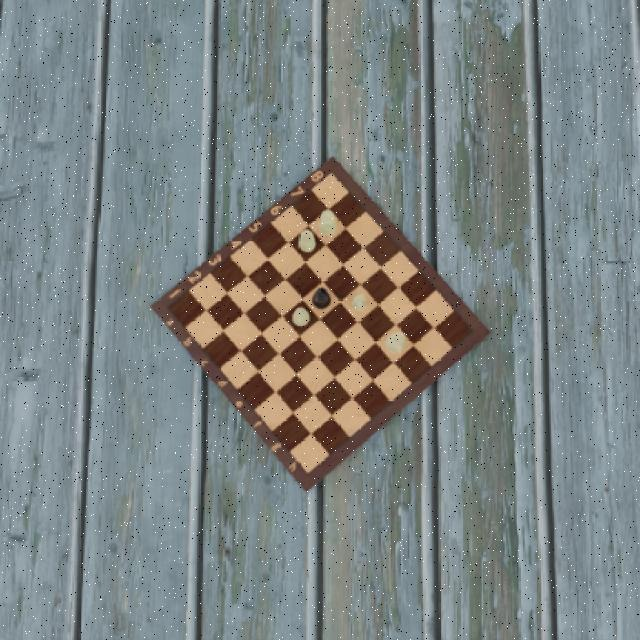black-king: (310, 287, 330, 311)
white-knight: (290, 305, 312, 329)
white-pawn: (351, 293, 367, 313)
white-queen: (384, 330, 407, 353)
white-rook: (318, 208, 337, 238), (296, 228, 316, 254)
